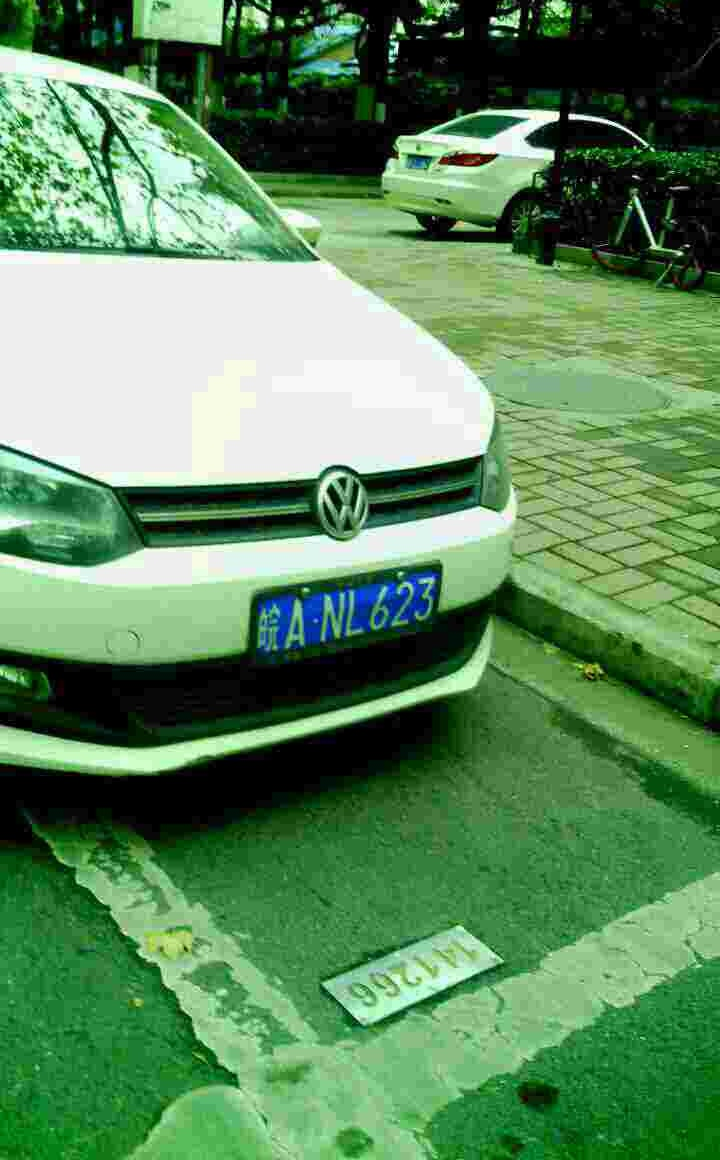license_plate: (259, 566, 448, 658)
